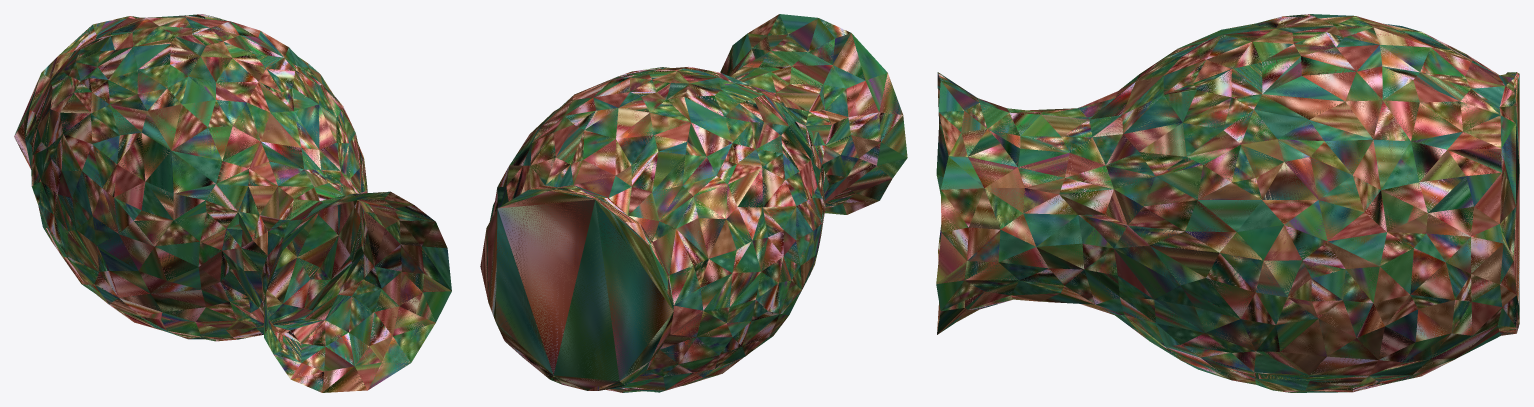
The model's file is model_align.obj.
The picture shows the model from 3 angles, left to right: view 1: azimuth 30°, elevation 25°; view 2: azimuth 150°, elevation 25°; view 3: azimuth 270°, elevation 25°; orthographic projection. The views are drawn at different scales.
Size of the model in its own units: 0.0699 by 0.0699 by 0.1089.
Materials: 1 (1 with a texture image).
